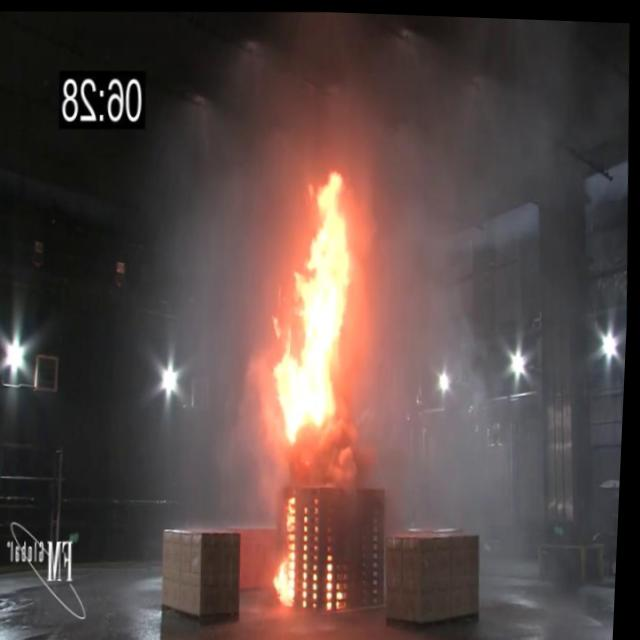fire: (260, 157, 370, 469), (272, 491, 304, 609)
